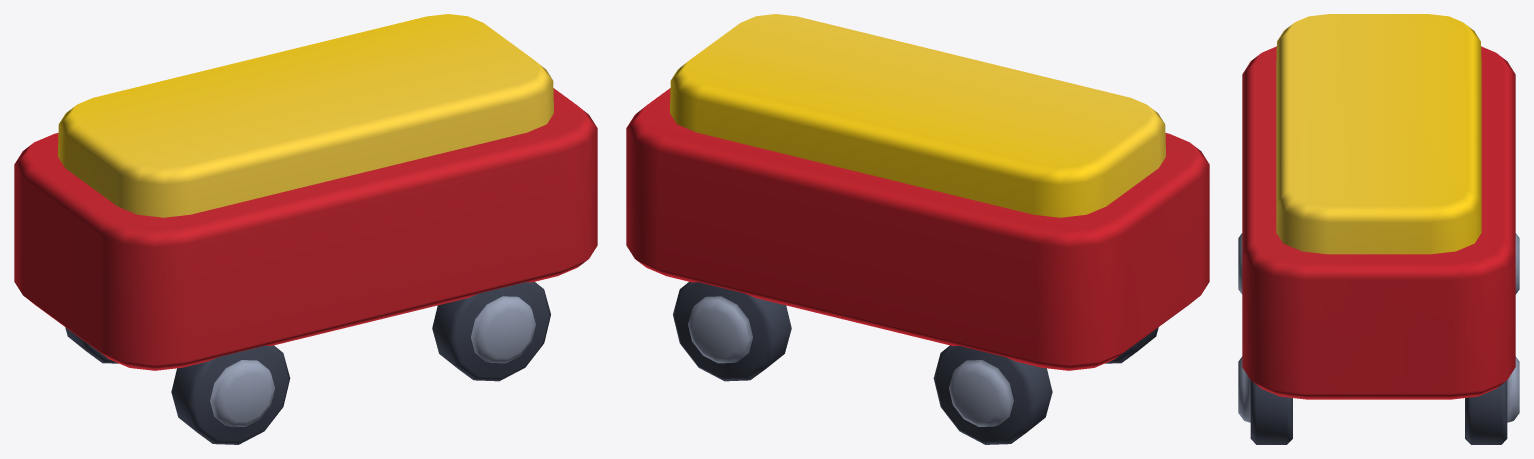
Rendered from Slider_2.fbx.
The picture shows the model from 3 angles, left to right: view 1: azimuth 30°, elevation 25°; view 2: azimuth 150°, elevation 25°; view 3: azimuth 270°, elevation 25°; orthographic projection. The views are drawn at different scales.
Visible parts, largest first — view 1: Slider 2; view 2: Slider 2; view 3: Slider 2.
Part boxes in pixels (x1,y1,x2,y2): Slider 2: (14,14,597,444); Slider 2: (626,14,1209,444); Slider 2: (1238,14,1519,444).
Size of the model in its own units: 199 by 107 by 102.
